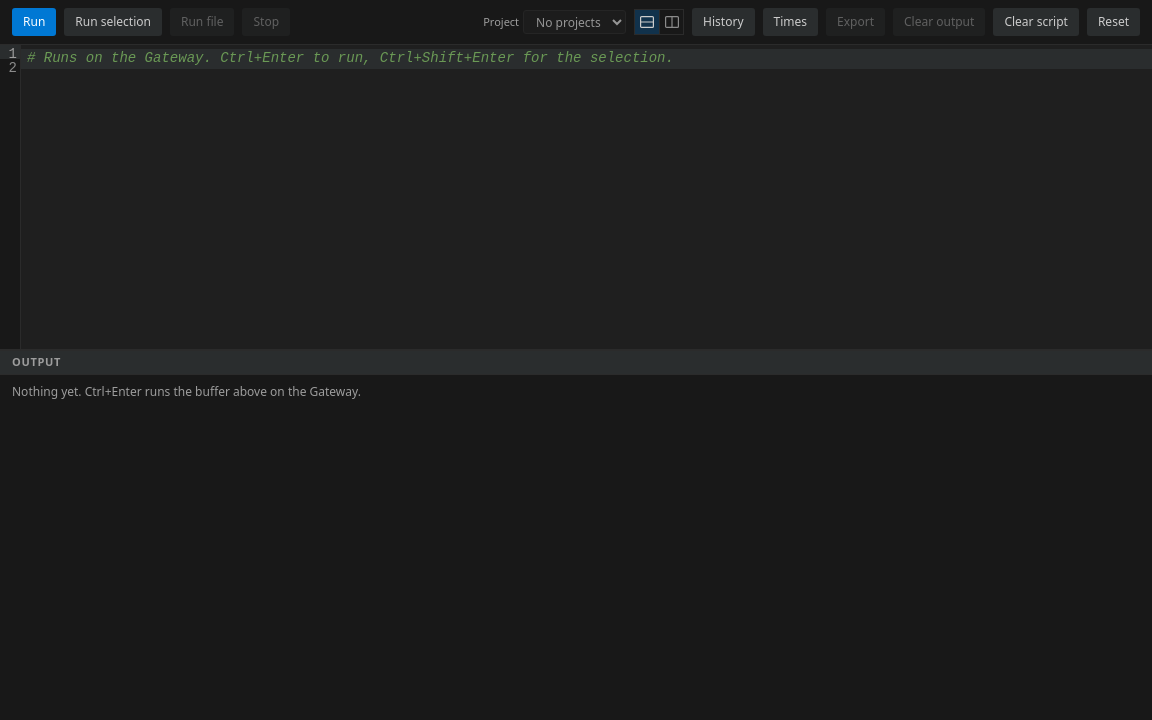
Scenario: ScriptConsole › folds one run without touching the next, and files output under its own run
This screenshot has width=1152, height=720.
Click the button "Run": (34, 22) left=12, top=8, right=56, bottom=36
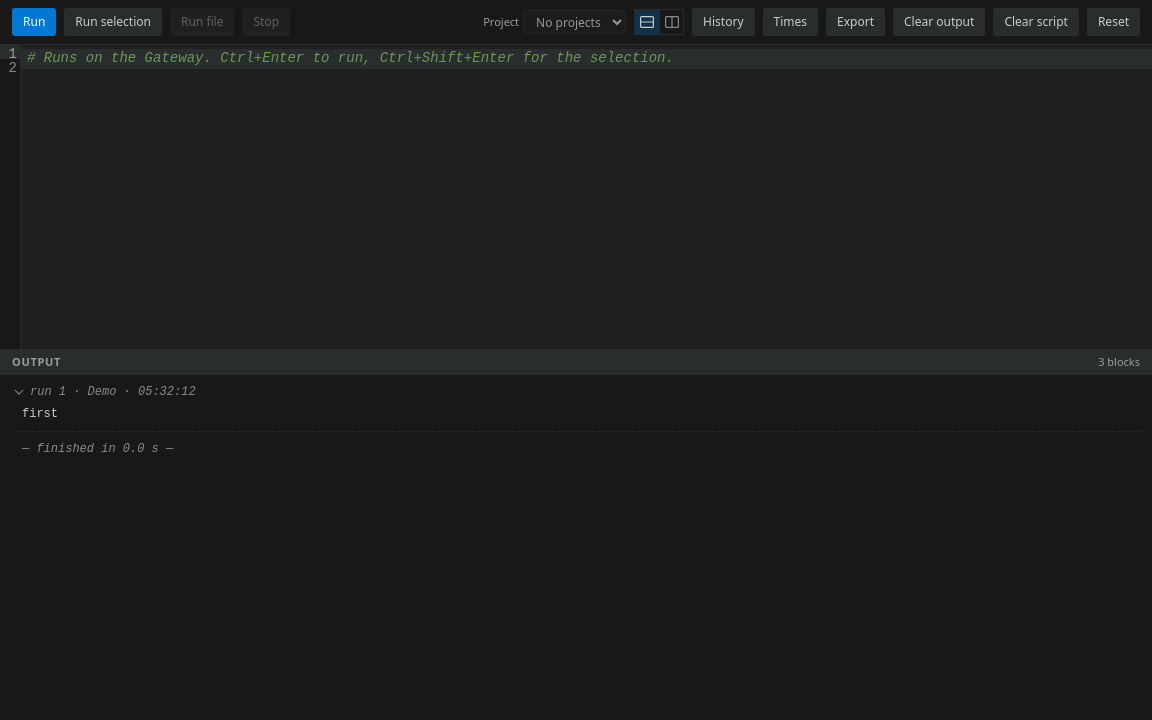
Click the button "Run": (34, 22) left=12, top=8, right=56, bottom=36
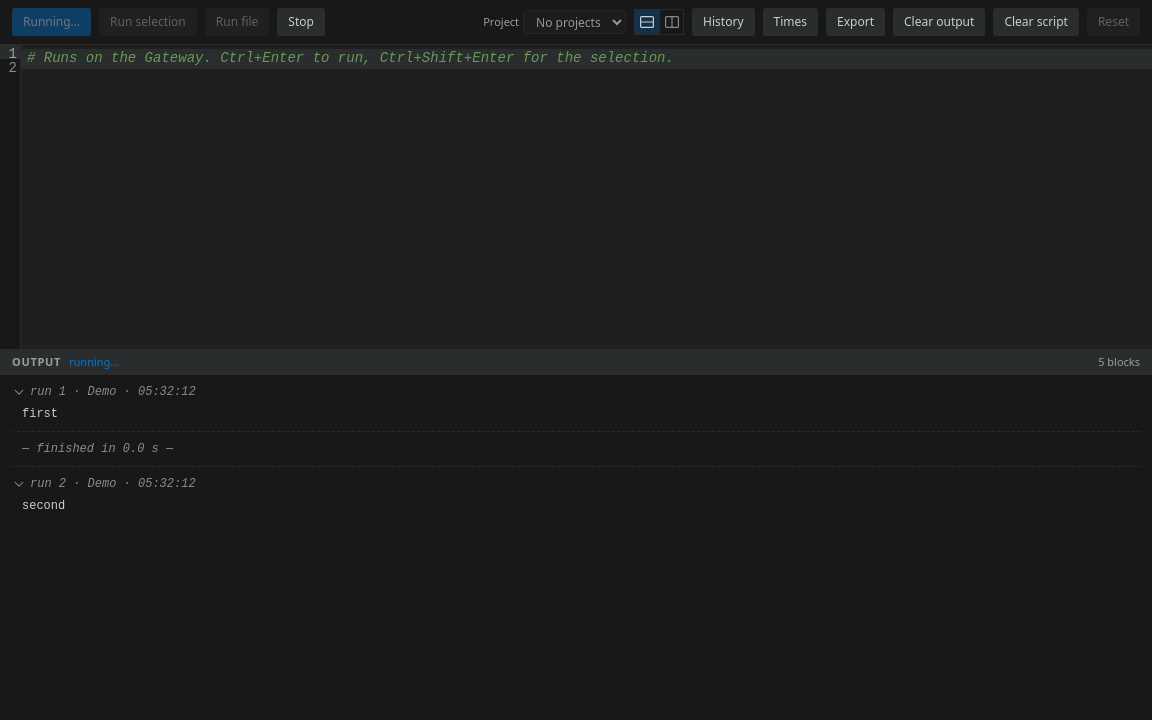
Click the button "run 1 · Demo · 05:32:12": (113, 392) left=12, top=383, right=1140, bottom=401
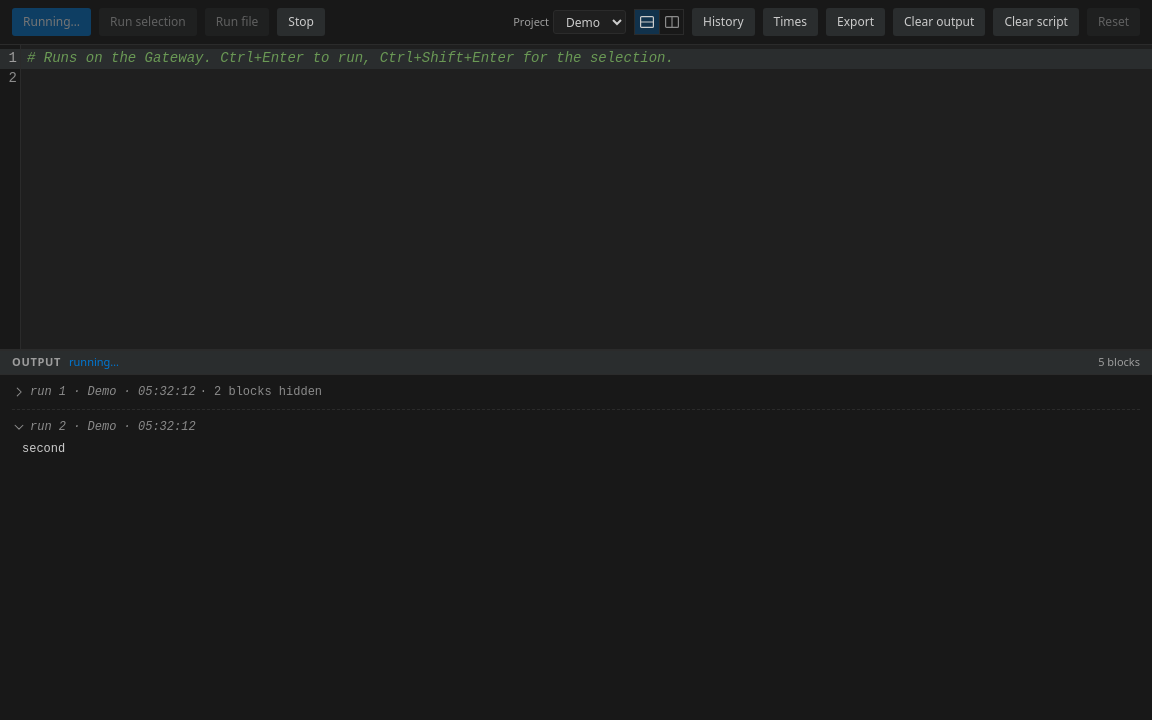
Check: the element with class "console-run" does not show "second"
Check: the text "second" is shown, box left=22, top=442, right=65, bottom=456
Check: the text "first" is gone
